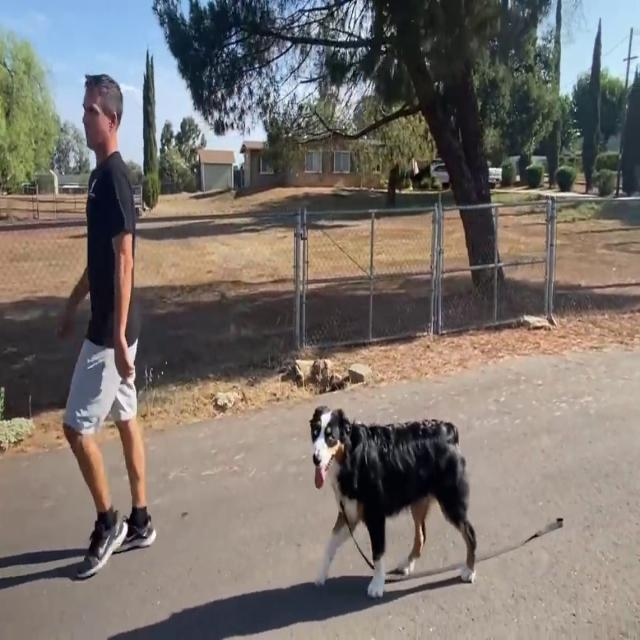Unleashed_Dog: (94, 341, 479, 602)
